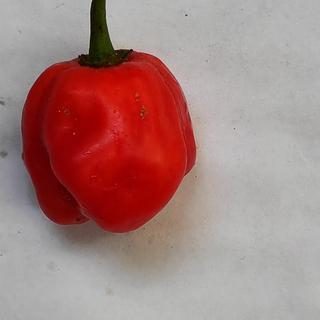Grade-B: (16, 45, 198, 233)
